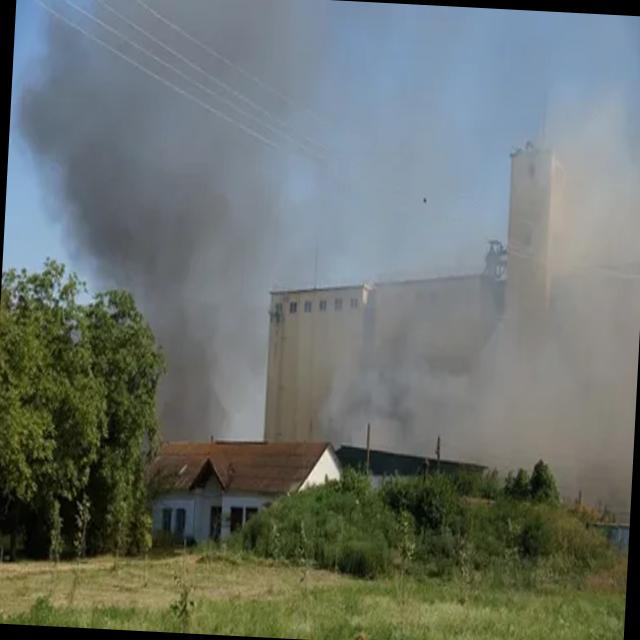Smoke: (0, 0, 288, 439), (320, 249, 640, 493)
